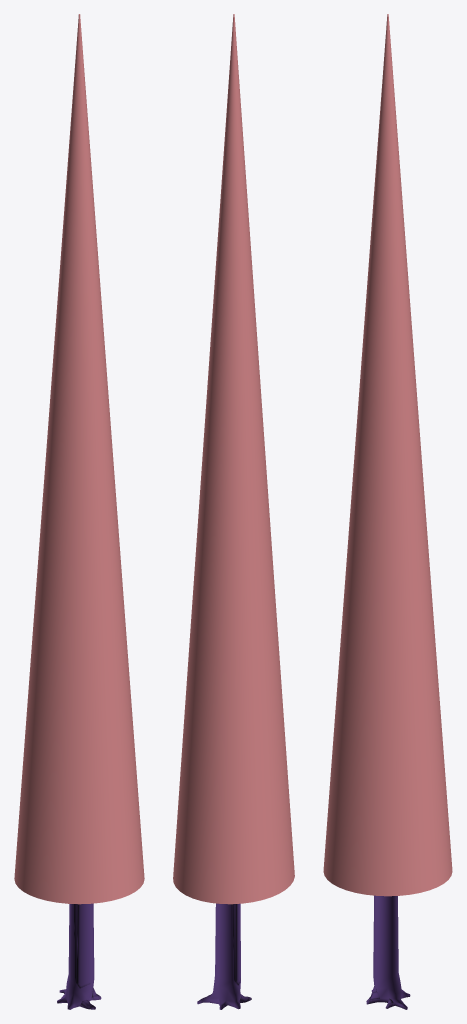
Rendered from pine_tree.gltf.
The picture shows the model from 3 angles, left to right: view 1: azimuth 90°, elevation 25°; view 2: azimuth 150°, elevation 25°; view 3: azimuth 270°, elevation 25°; orthographic projection.
Visible parts, largest first — view 1: object 2, treeStump; view 2: object 2, treeStump; view 3: object 2, treeStump.
Boxes of the visible parts, bbox=[...] form: object 2: bbox=[14, 14, 144, 904]; treeStump: bbox=[57, 903, 101, 1009]; object 2: bbox=[173, 14, 294, 904]; treeStump: bbox=[197, 903, 251, 1009]; object 2: bbox=[323, 14, 452, 896]; treeStump: bbox=[366, 895, 410, 1009].
Bounding box in the file's own units: 5.15 × 47.22 × 5.62.
4 materials, 4 textured.
